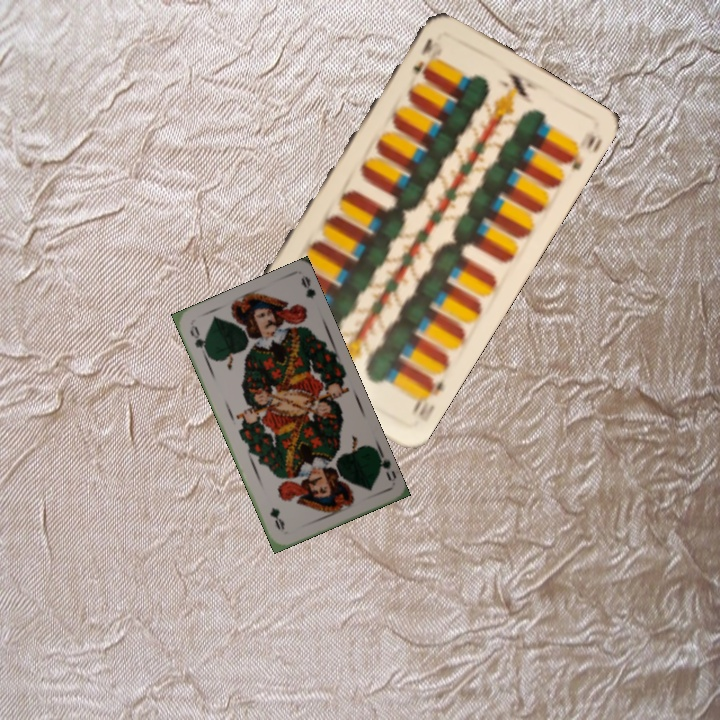E10: (407, 373, 447, 425), (409, 34, 435, 78)
GO: (186, 321, 211, 360), (373, 446, 394, 483)
